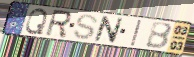B: (145, 22, 174, 51)
I: (129, 19, 143, 48)
N: (92, 15, 125, 45)
Q: (24, 8, 49, 36)
R: (43, 9, 73, 40)
S: (72, 13, 99, 41)
